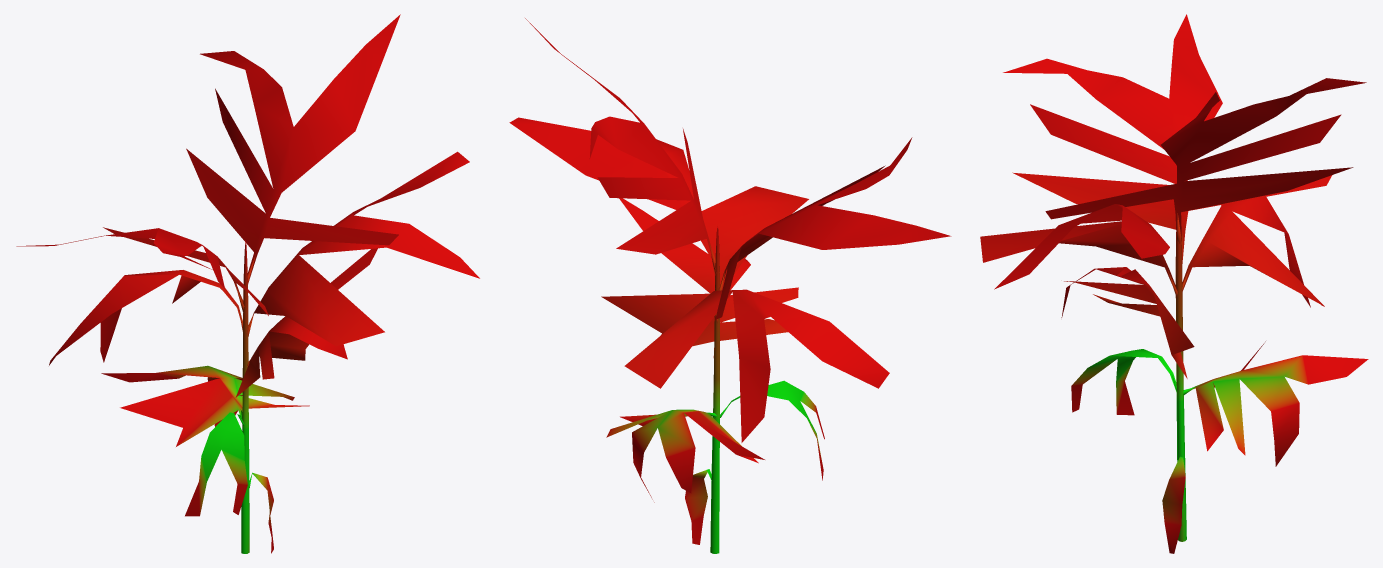
The model's file is Cane Palm_LOD0_Var5_siBmK.fbx.
The picture shows the model from 3 angles, left to right: view 1: azimuth 30°, elevation 25°; view 2: azimuth 150°, elevation 25°; view 3: azimuth 270°, elevation 25°; orthographic projection. The views are drawn at different scales.
Visible parts, largest first — view 1: _7cff_Var5_LOD0; view 2: _7cff_Var5_LOD0; view 3: _7cff_Var5_LOD0.
Boxes of the visible parts, <box> form: _7cff_Var5_LOD0: <box>16,14,479,553</box>; _7cff_Var5_LOD0: <box>509,18,951,553</box>; _7cff_Var5_LOD0: <box>980,14,1368,553</box>.
Size of the model in its own units: 16.77 by 17.95 by 11.63.
